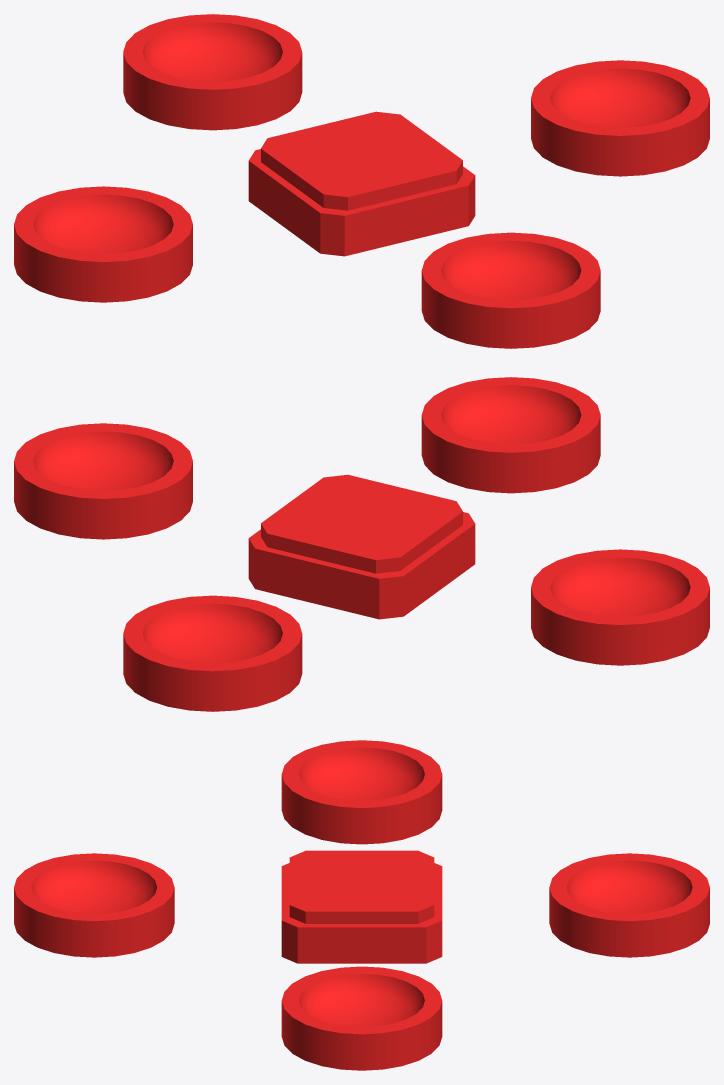
The model's file is Splitter.obj.
3 renders of one model, top to bottom at view 1: azimuth 30°, elevation 25°; view 2: azimuth 150°, elevation 25°; view 3: azimuth 270°, elevation 25°, orthographic. The views are drawn at different scales.
Parts seen in each view (by area): view 1: Handle, Output4, Output1, Output3, Output2; view 2: Handle, Output4, Output1, Output3, Output2; view 3: Handle, Output3, Output2, Output4, Output1.
Boxes of the visible parts, x1,y1,x2,y2 form: Handle: (248, 111, 475, 256); Output4: (421, 232, 600, 348); Output1: (123, 14, 302, 130); Output3: (531, 60, 709, 176); Output2: (14, 186, 192, 302); Handle: (248, 474, 475, 619); Output4: (421, 377, 600, 493); Output1: (123, 595, 302, 711); Output3: (14, 423, 192, 539); Output2: (531, 549, 709, 665); Handle: (281, 850, 442, 963); Output3: (281, 966, 442, 1070); Output2: (281, 740, 442, 844); Output4: (14, 853, 174, 957); Output1: (549, 853, 709, 957).
Bounding box in the file's own units: 2.6 × 0.2 × 2.6.
